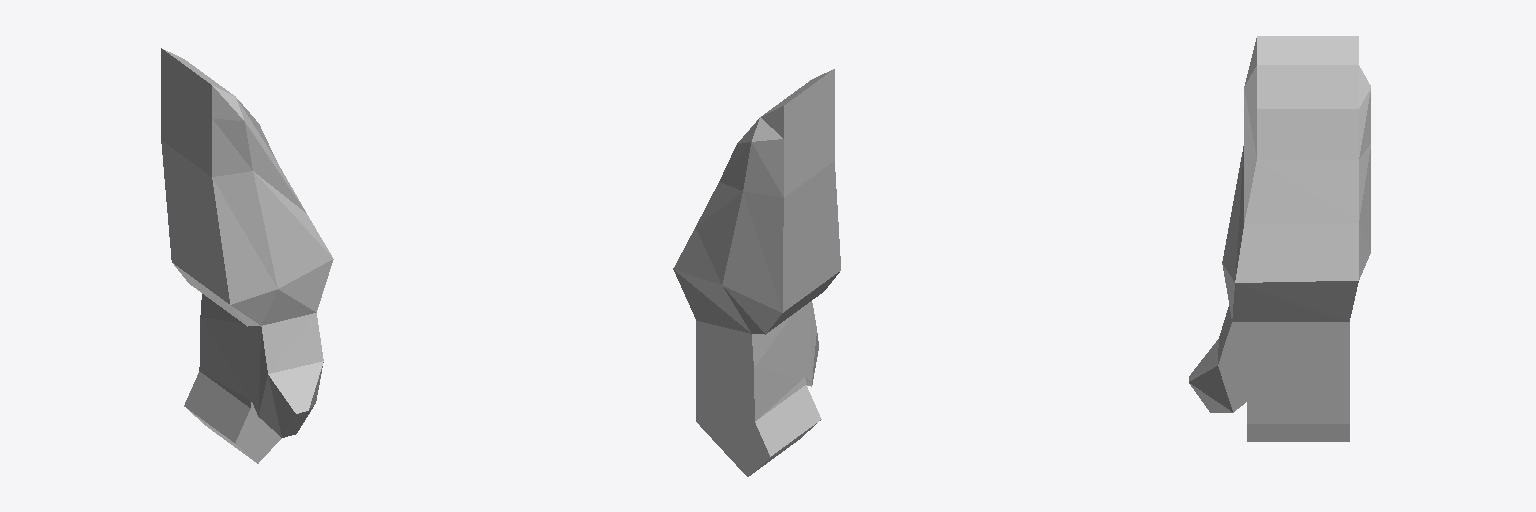
3 renders of one model, left to right at view 1: azimuth 30°, elevation 25°; view 2: azimuth 150°, elevation 25°; view 3: azimuth 270°, elevation 25°, orthographic.
Parts seen in each view (by area): view 1: l_arm; view 2: l_arm; view 3: l_arm.
Part boxes in pixels (x1,y1,x2,y2): l_arm: (161,48,333,463); l_arm: (673,69,840,476); l_arm: (1189,36,1370,441).
Bounding box in the file's own units: 0.0836 × 0.2782 × 0.1198.